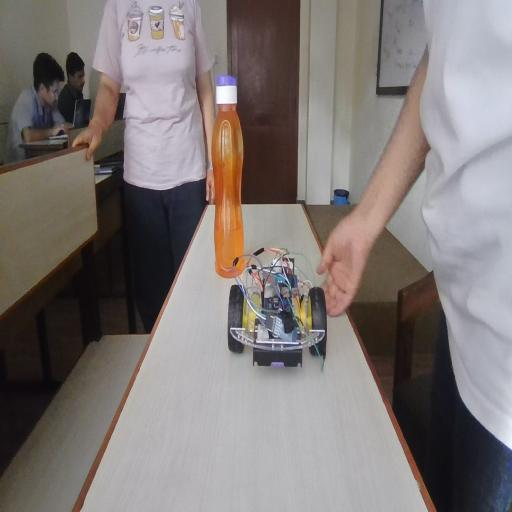Bottle: (203, 75, 276, 273)
car: (224, 261, 340, 390)
